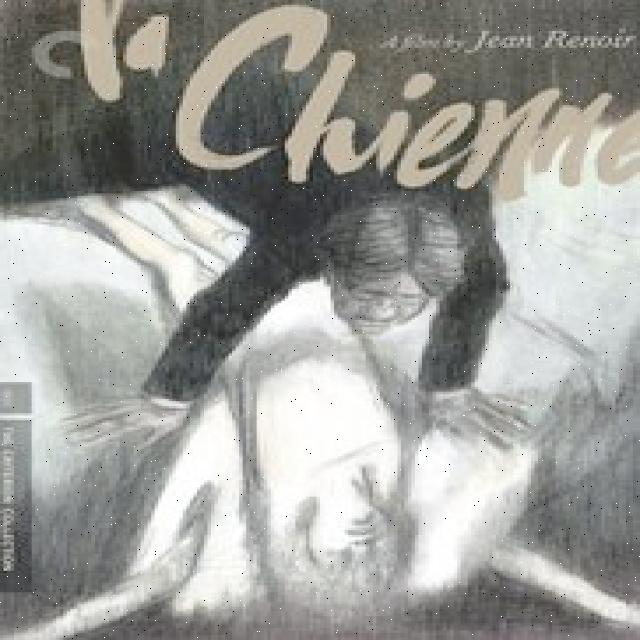movie-judul: (2, 0, 640, 205)
picture: (0, 48, 636, 633)
